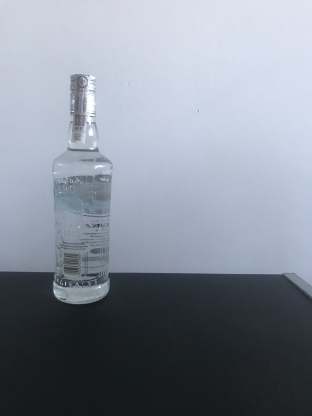nakretka: (67, 71, 98, 119)
